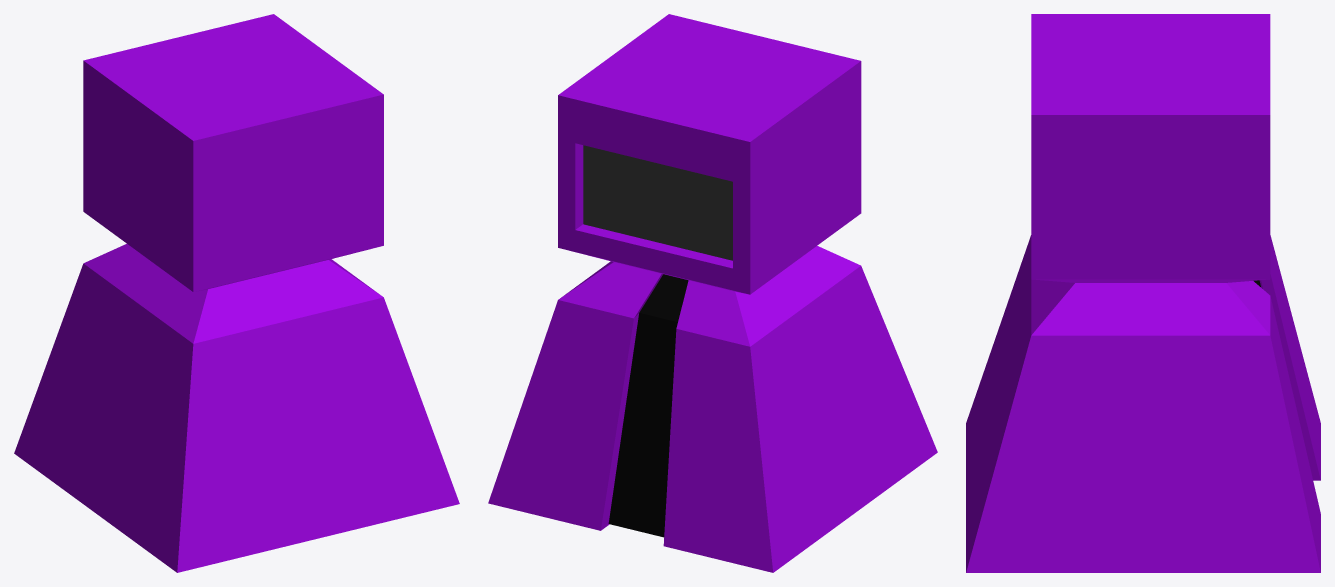
Rendered from Wizard.fbx.
3 renders of one model, left to right at view 1: azimuth 30°, elevation 25°; view 2: azimuth 150°, elevation 25°; view 3: azimuth 270°, elevation 25°, orthographic. The views are drawn at different scales.
Parts seen in each view (by area): view 1: Cube.002; view 2: Cube.002; view 3: Cube.002.
Part boxes in pixels (<box>): Cube.002: <box>14,14,459,572</box>; Cube.002: <box>488,14,937,572</box>; Cube.002: <box>966,14,1320,572</box>.
Bounding box in the file's own units: 74.19 × 100 × 74.19.
